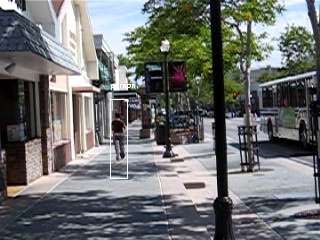person: (112, 111, 128, 162), (111, 111, 127, 162), (113, 111, 129, 162), (112, 110, 128, 161), (112, 112, 128, 163)
target_negative: (75, 73, 205, 121), (192, 225, 320, 240), (71, 50, 163, 69), (27, 151, 73, 167), (27, 33, 69, 38), (191, 189, 214, 196)
